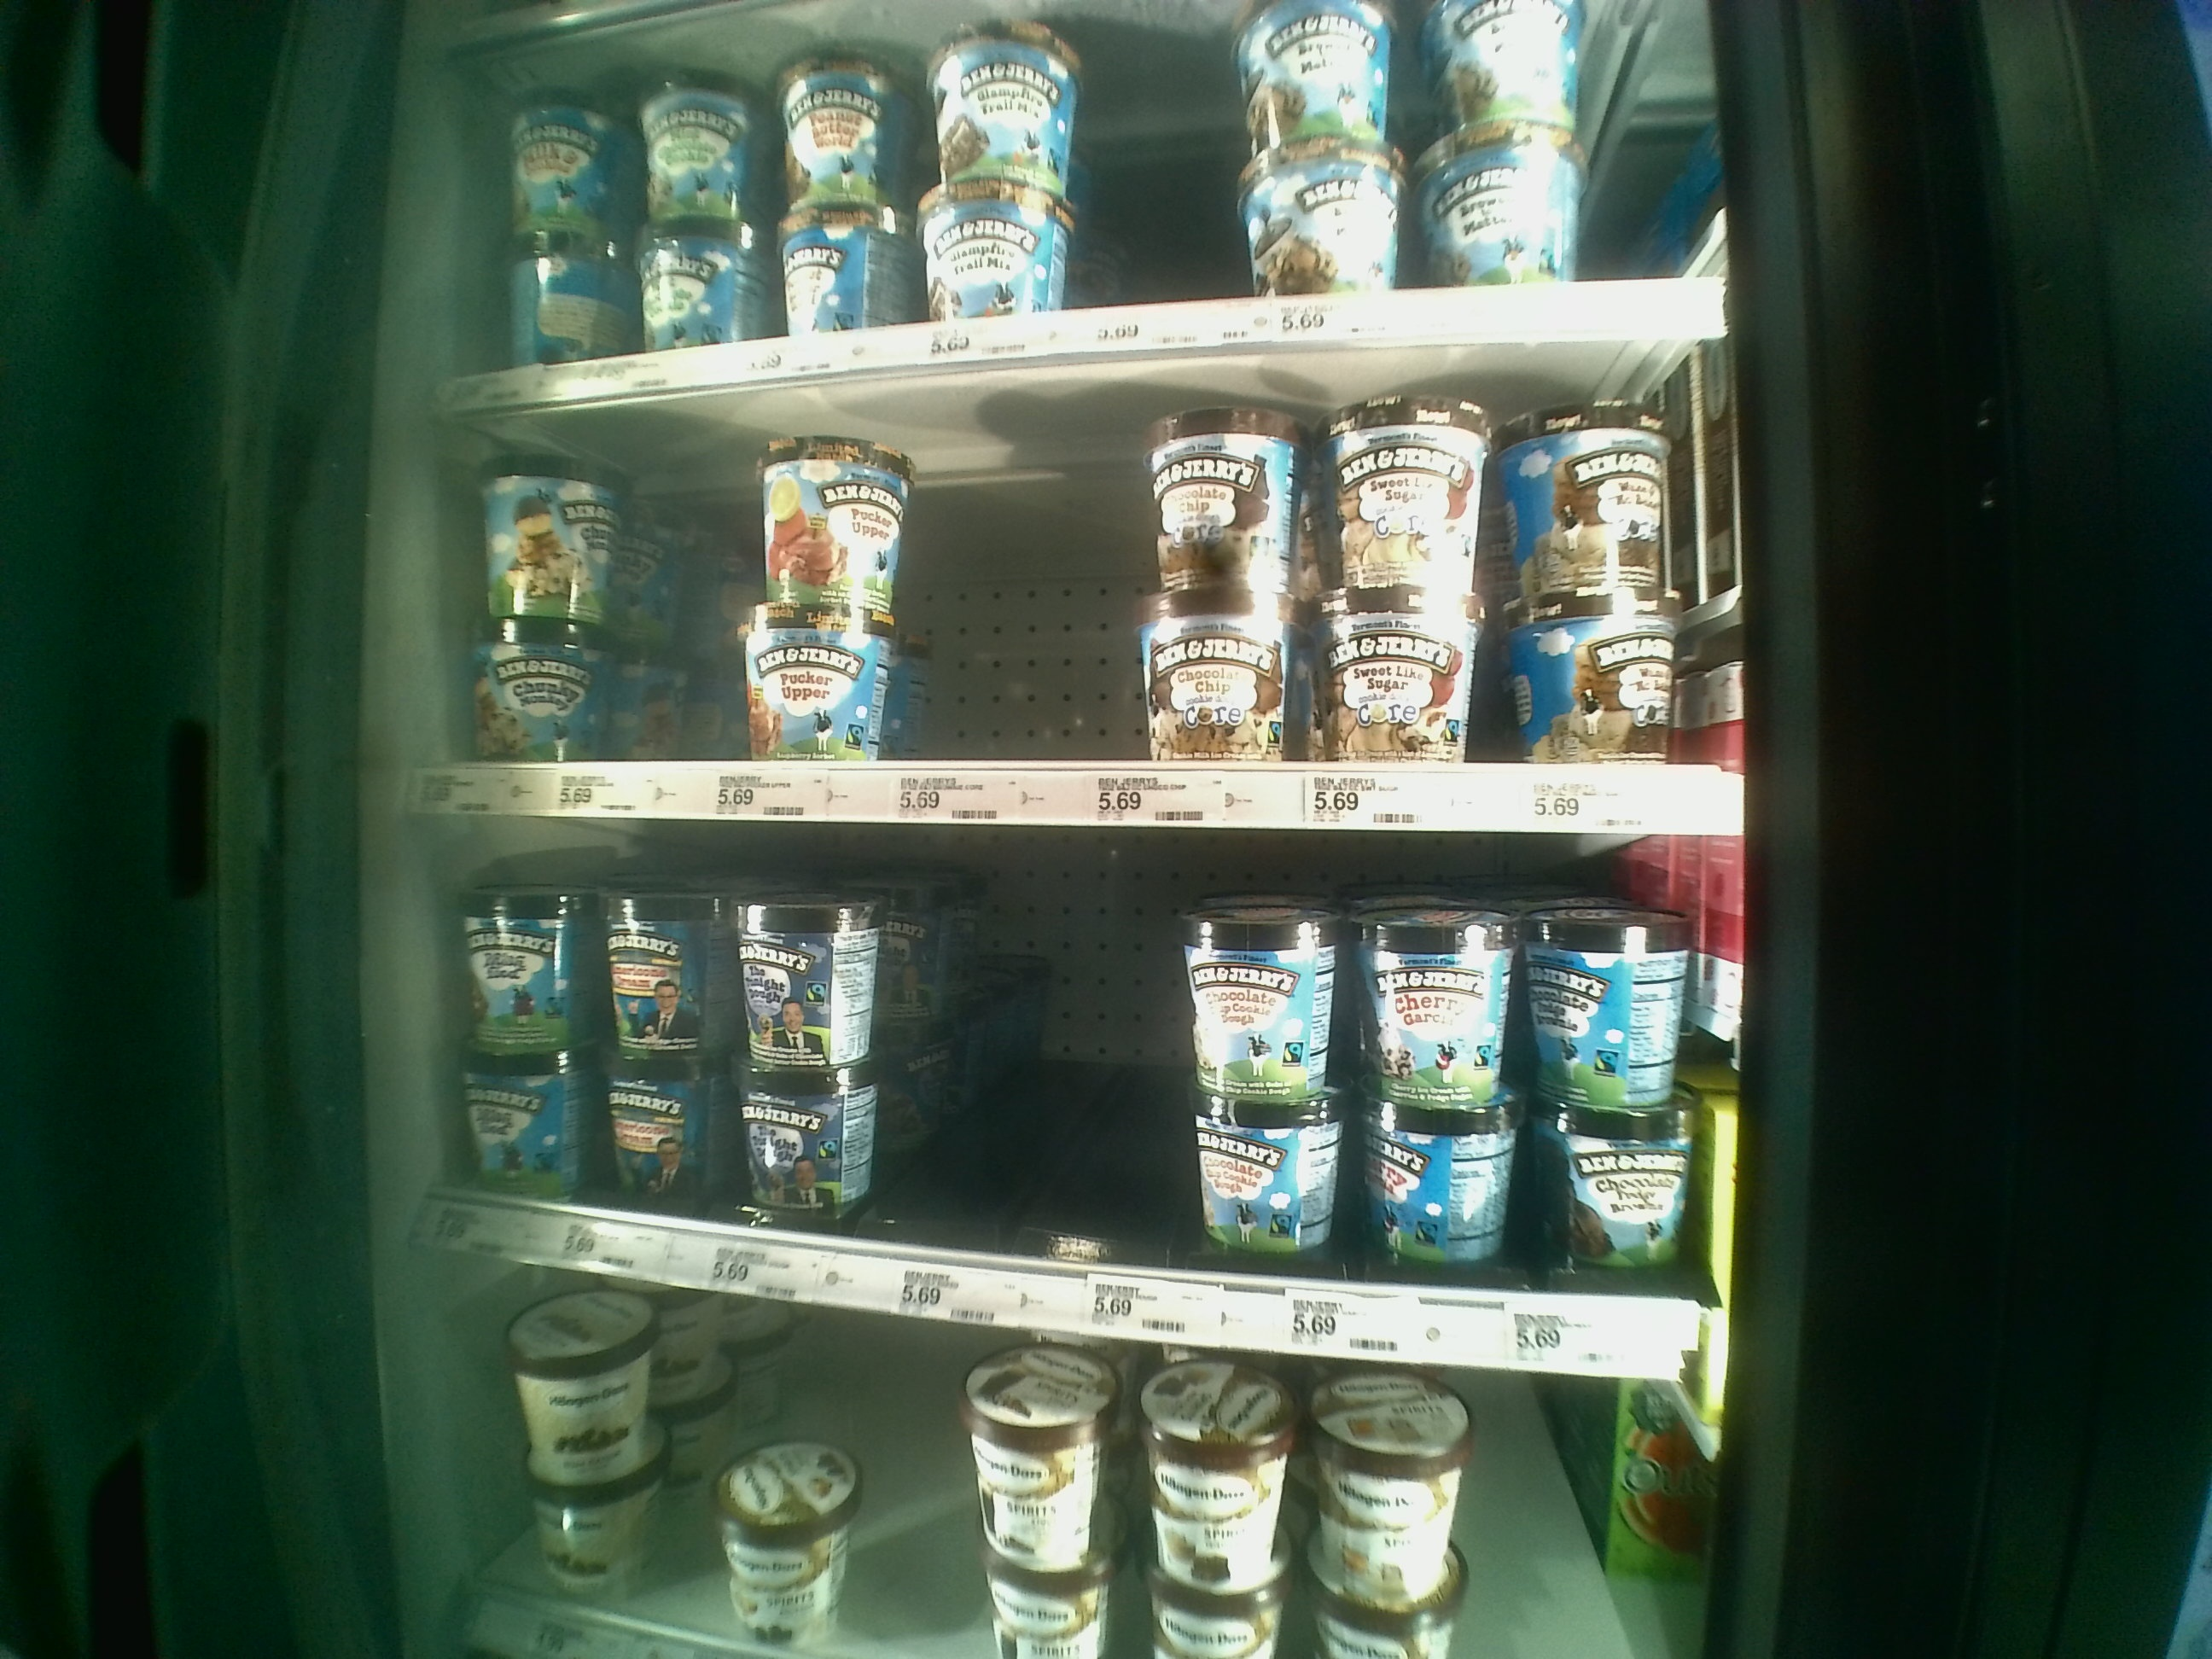ice-cream-shelf: (434, 816, 1705, 1368), (442, 352, 1723, 821)
